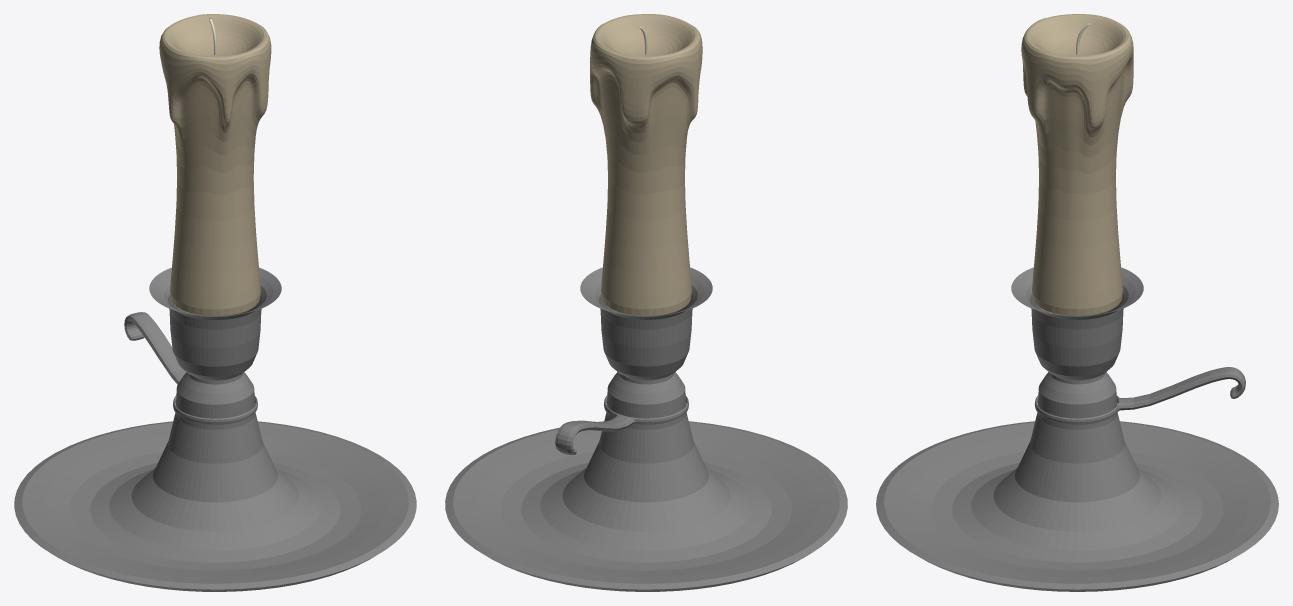
File: Candle_Holder_Full.fbx
3 renders of one model, left to right at view 1: azimuth 30°, elevation 25°; view 2: azimuth 150°, elevation 25°; view 3: azimuth 270°, elevation 25°, orthographic.
Parts seen in each view (by area): view 1: NurbsCircle; view 2: NurbsCircle; view 3: NurbsCircle.
Part boxes in pixels (x1=…): NurbsCircle: x1=14, y1=14, x2=416, y2=591; NurbsCircle: x1=445, y1=14, x2=847, y2=591; NurbsCircle: x1=876, y1=14, x2=1278, y2=591.
Bounding box in the file's own units: 13.68 × 19.06 × 13.68.
